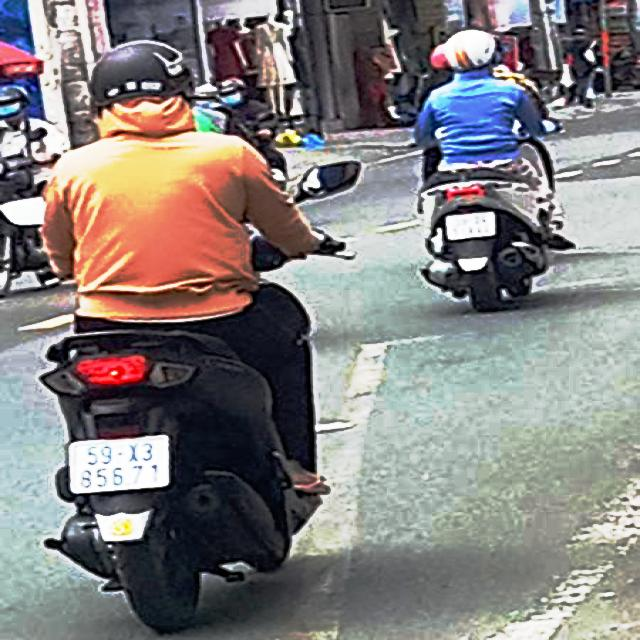license_plate: (72, 435, 169, 494)
